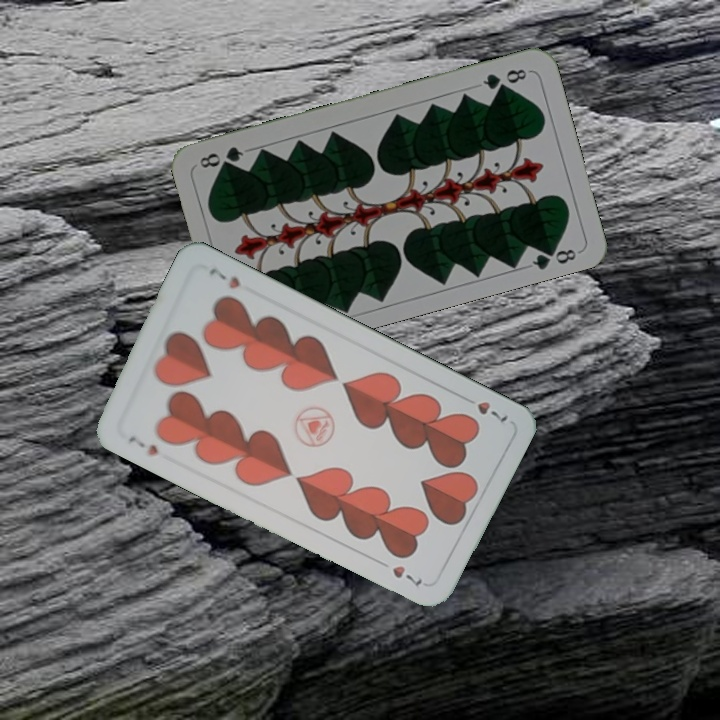G8: (478, 64, 532, 92)
H7: (457, 393, 511, 425), (124, 431, 161, 459)
